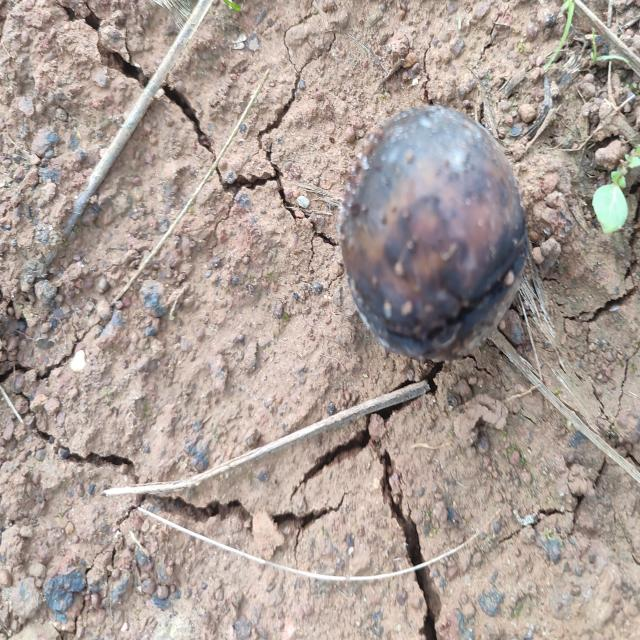damaged: (338, 106, 528, 362)
